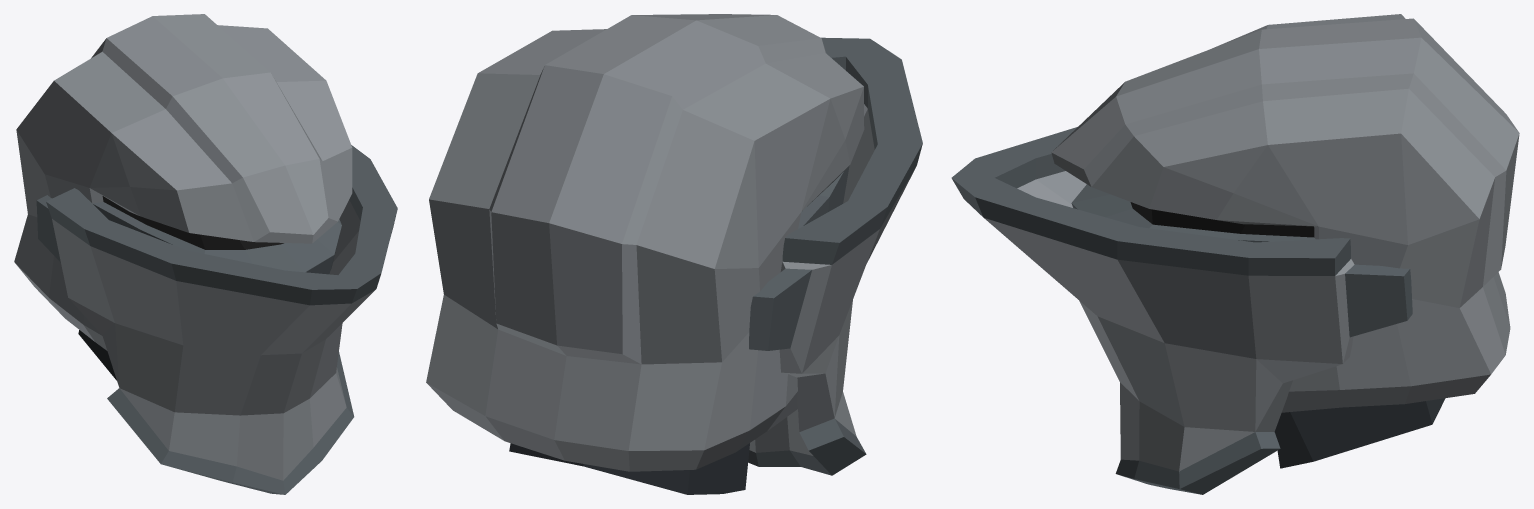
File: Chr_Head_No_Elements_Male_10_Static.fbx
The picture shows the model from 3 angles, left to right: view 1: azimuth 30°, elevation 25°; view 2: azimuth 150°, elevation 25°; view 3: azimuth 270°, elevation 25°; orthographic projection. The views are drawn at different scales.
Visible parts, largest first — view 1: Chr_Head_No_Elements_Male_10_Static; view 2: Chr_Head_No_Elements_Male_10_Static; view 3: Chr_Head_No_Elements_Male_10_Static.
Part boxes in pixels (bbox=[...]): Chr_Head_No_Elements_Male_10_Static: bbox=[14, 14, 397, 494]; Chr_Head_No_Elements_Male_10_Static: bbox=[426, 14, 922, 494]; Chr_Head_No_Elements_Male_10_Static: bbox=[951, 14, 1519, 494].
Bounding box in the file's own units: 0.2904 × 0.3766 × 0.4337.
